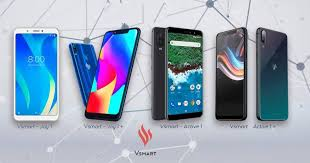vsmart: (81, 25, 139, 123), (10, 24, 62, 125), (253, 26, 289, 123), (215, 26, 248, 125)
